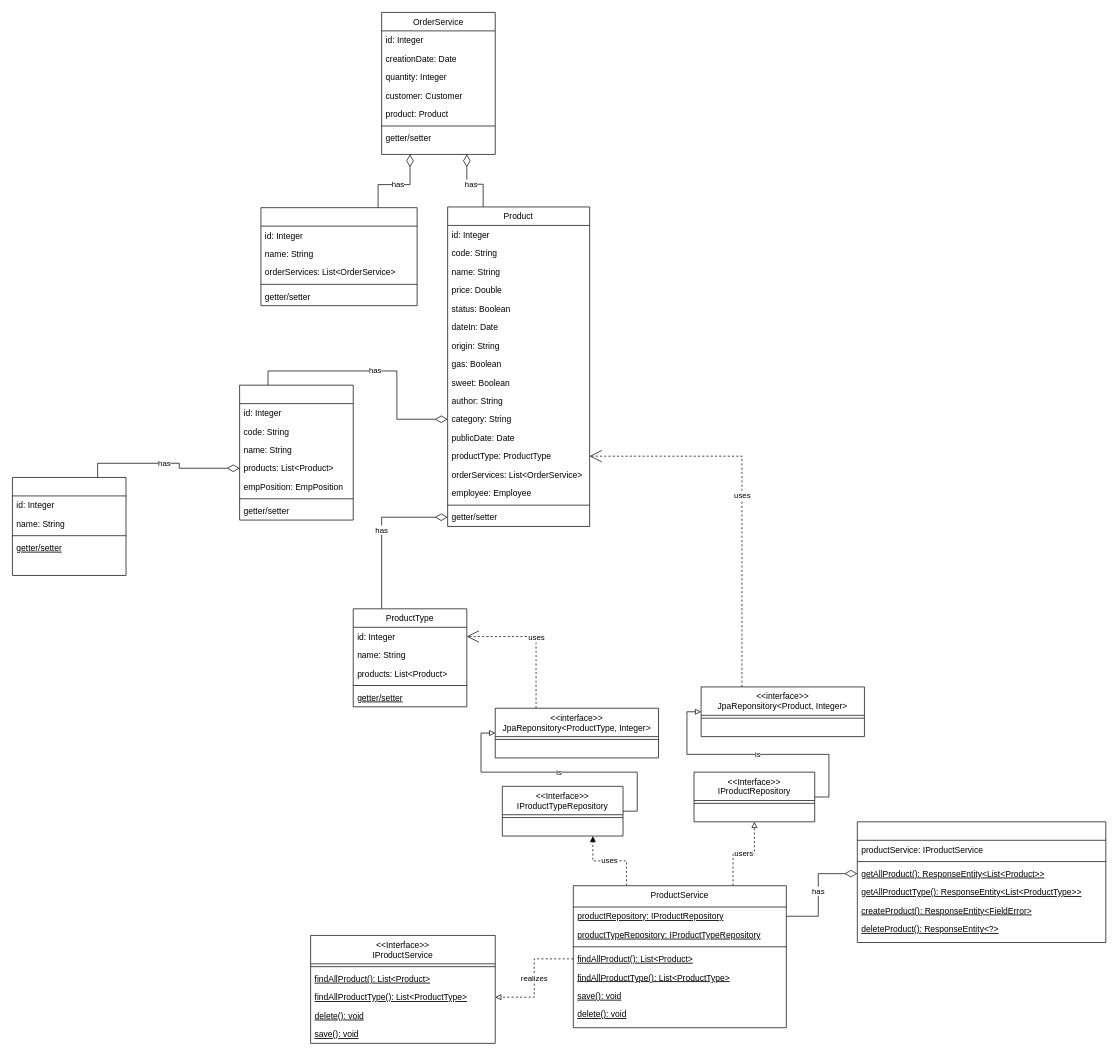
This 1118x1058 diagram has some shape labels left out. The shapes that lost their labels are listed below. From the top down, each one's box as (x1, y1, x2, y2) in pixels, then its label:
(260, 207, 417, 306): Customer
(239, 384, 353, 520): Employee
(12, 477, 126, 575): EmpPosition
(857, 821, 1106, 943): ProductRestController
